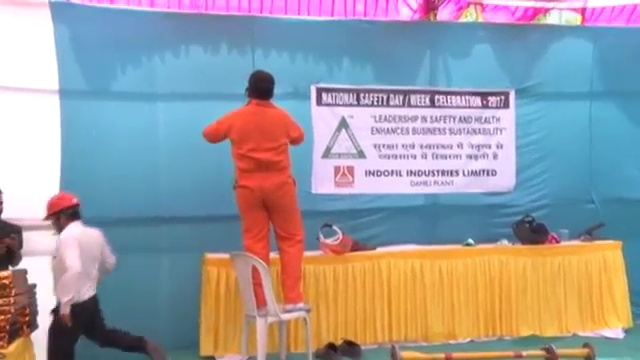helmet: (40, 191, 79, 220)
helmet_off: (244, 69, 275, 104)
helmet_on: (39, 190, 83, 238)
person: (203, 68, 306, 319), (39, 190, 166, 360), (1, 190, 26, 267)
